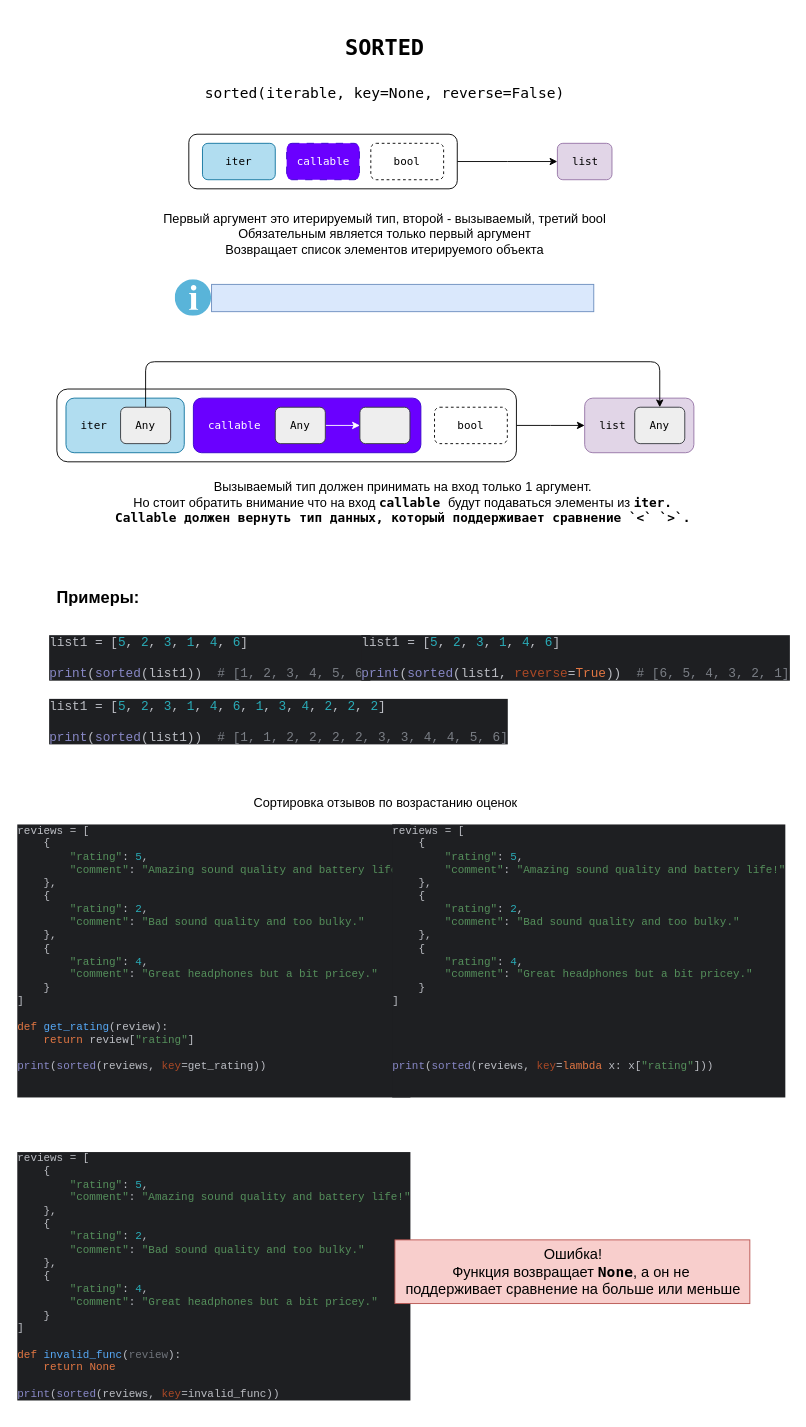
The diagram is 806 pixels wide and 1427 high, and some of its shapes have lost their labels. The shapes that lost their labels are listed below. From the top down, each one's centre as x and y in pixels, then its label:
point 402,297: По умолчанию ( reverse=False ) сортирует по возрастанию
point 384,425: not Any
